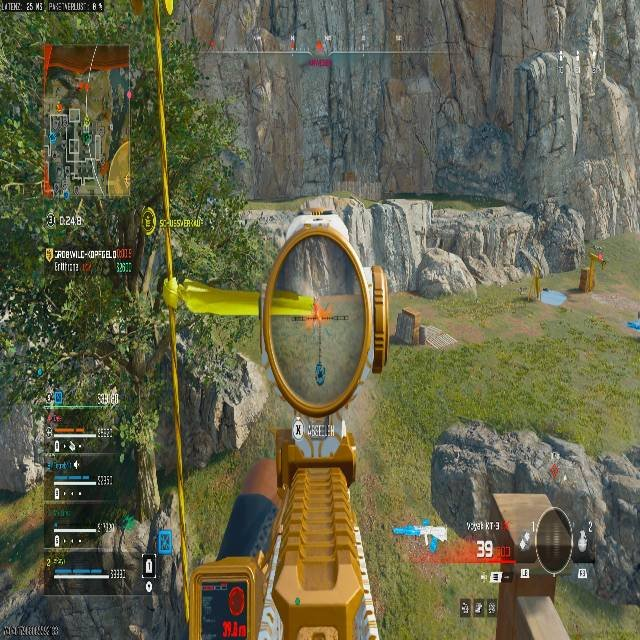player: (315, 361, 325, 385)
